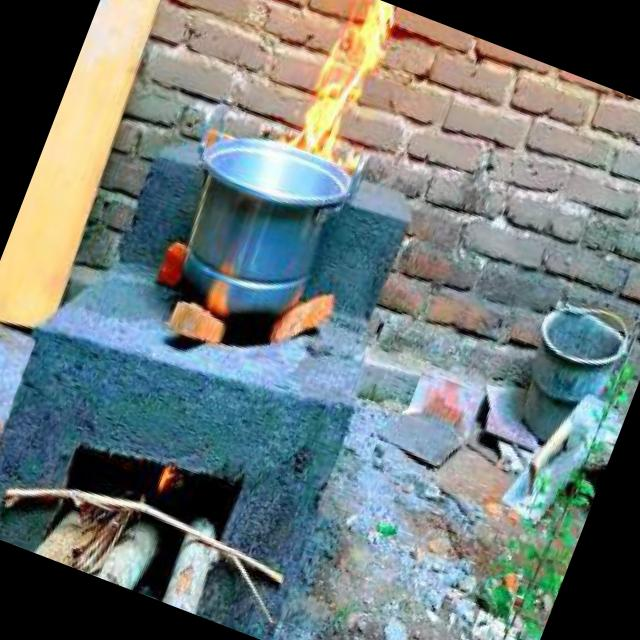fire: (267, 0, 418, 195), (190, 242, 252, 326), (148, 446, 184, 498)
